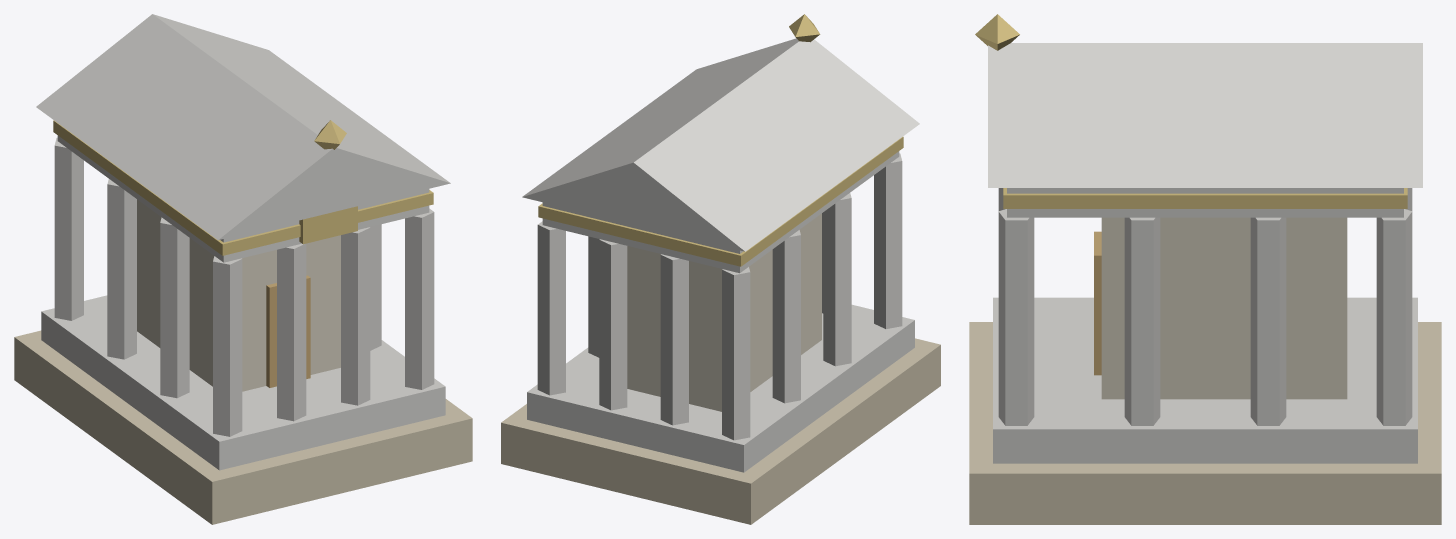
The model's file is temple.glb.
3 renders of one model, left to right at view 1: azimuth 30°, elevation 25°; view 2: azimuth 150°, elevation 25°; view 3: azimuth 270°, elevation 25°, orthographic. The views are drawn at different scales.
Visible parts, largest first — view 1: LOD0; view 2: LOD0; view 3: LOD0.
Boxes of the visible parts, x1,y1,x2,y2 form: LOD0: (14,14,472,524); LOD0: (501,14,940,524); LOD0: (969,14,1441,524).
Size of what is drawn, in the model's own units: 0.19 by 0.254 by 0.25.
